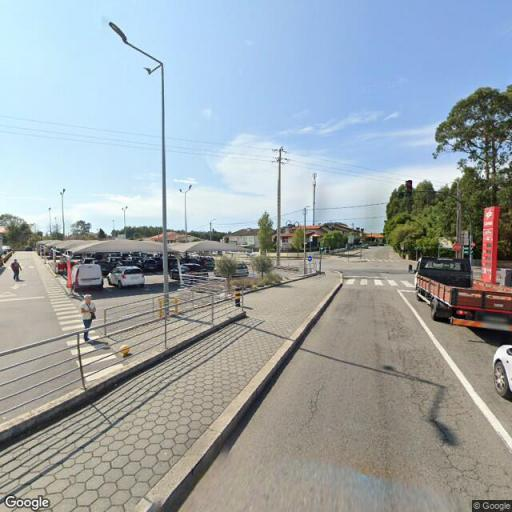mono_7: (271, 141, 290, 266)
